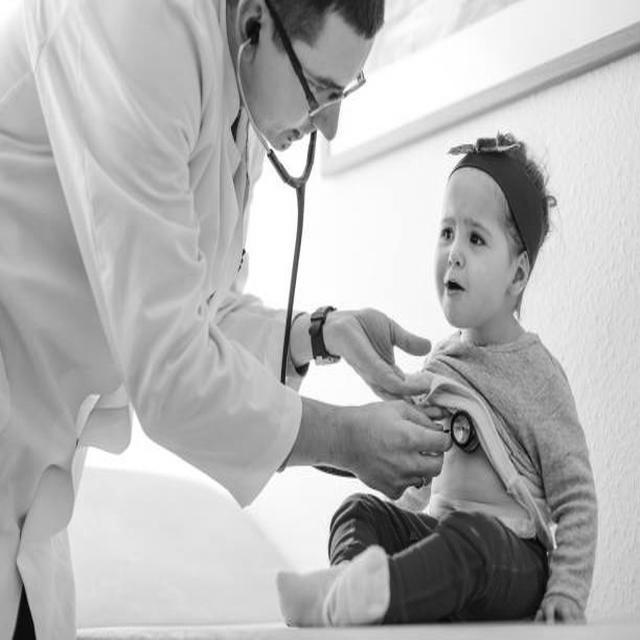Fear: (436, 170, 505, 327)
